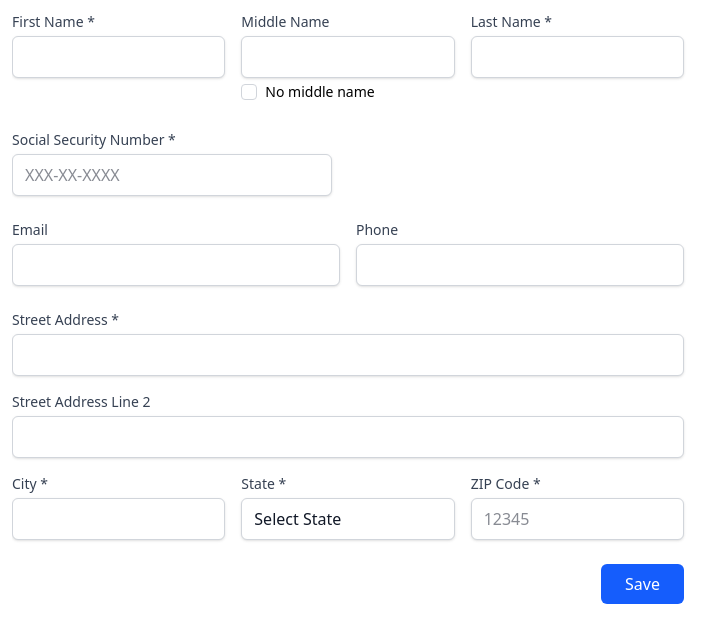
PiiForm › handles middle name override correctly
Expected: the checkbox labelled "No middle name" is not checked, x1=241 y1=84 x2=257 y2=100
Note: Type a middle name
Type "Patrick" into the field labelled "Middle Name" at (348, 57), box x1=241 y1=36 x2=455 y2=78
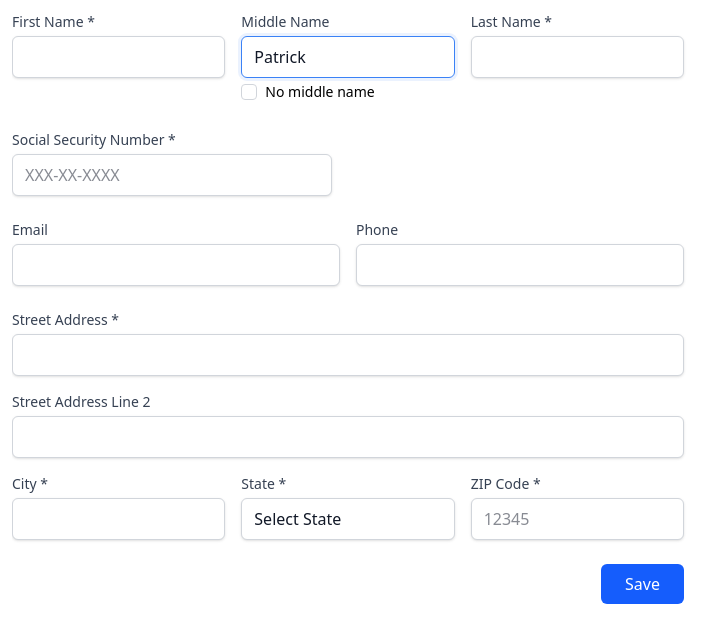
Note: Check the "No middle name" checkbox
Click the checkbox labelled "No middle name" at (249, 92), box x1=241 y1=84 x2=257 y2=100
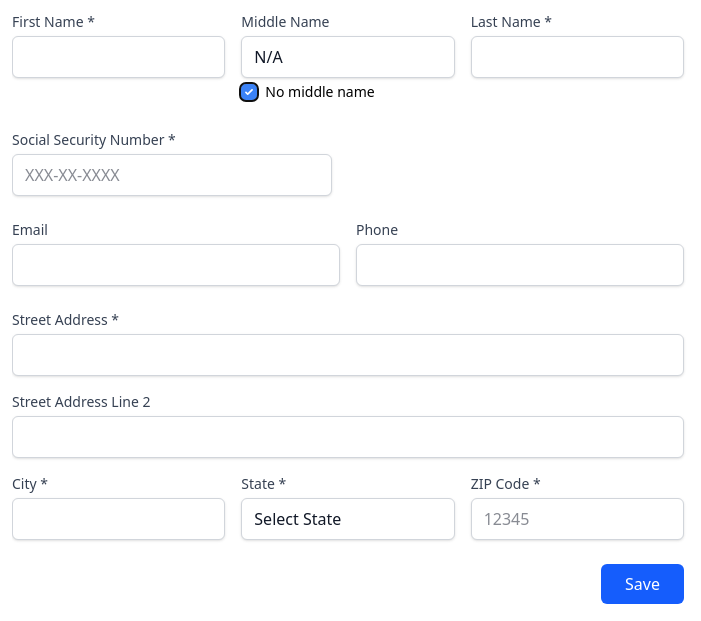
Expected: the checkbox labelled "No middle name" is checked, x1=241 y1=84 x2=257 y2=100
Expected: the field labelled "Middle Name" holds "N/A", x1=241 y1=36 x2=455 y2=78
